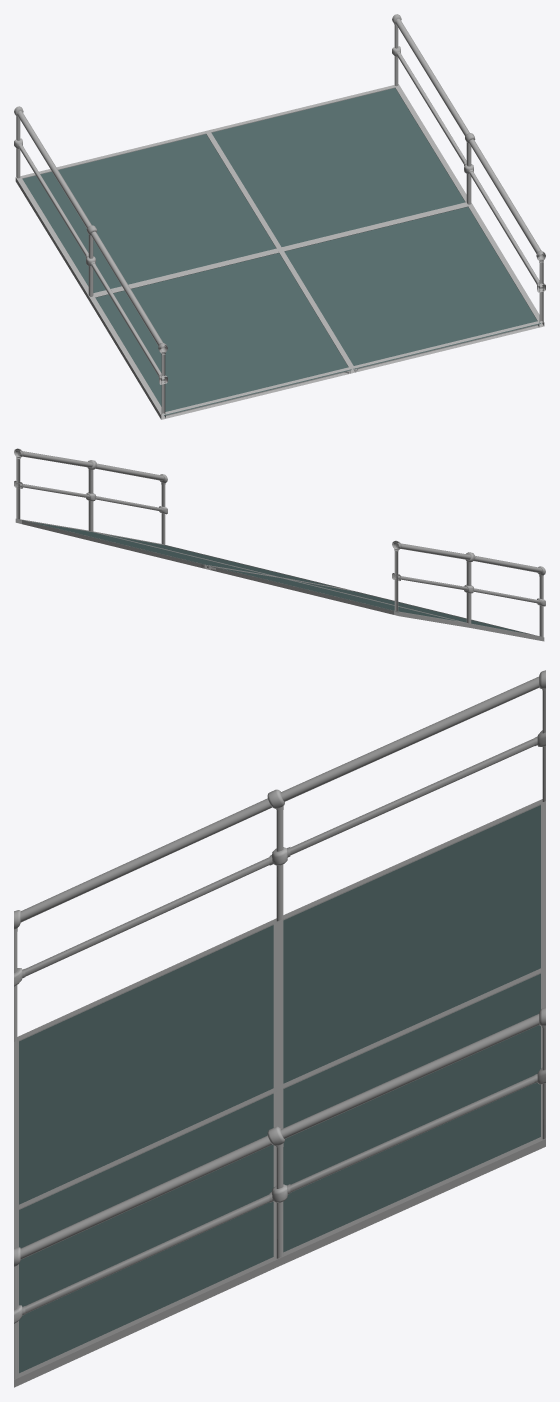
Rendered from L_RailWalk_Ramp.fbx.
The picture shows the model from 3 angles, top to bottom: view 1: azimuth 30°, elevation 25°; view 2: azimuth 150°, elevation 25°; view 3: azimuth 270°, elevation 25°; orthographic projection. The views are drawn at different scales.
Visible parts, largest first — view 1: Large_RampsCombined_RailWalk_Ramp_lineplank14, Large_RampsCombined_RailWalk_Ramp_midrailing02, Large_RampsCombined_RailWalk_Ramp_midrailing06; view 2: Large_RampsCombined_RailWalk_Ramp_lineplank14, Large_RampsCombined_RailWalk_Ramp_midrailing02, Large_RampsCombined_RailWalk_Ramp_midrailing06; view 3: Large_RampsCombined_RailWalk_Ramp_lineplank14, Large_RampsCombined_RailWalk_Ramp_midrailing06, Large_RampsCombined_RailWalk_Ramp_midrailing02.
Part boxes in pixels (x1,y1,x2,y2): Large_RampsCombined_RailWalk_Ramp_lineplank14: [15, 84, 544, 419]; Large_RampsCombined_RailWalk_Ramp_midrailing02: [14, 106, 167, 414]; Large_RampsCombined_RailWalk_Ramp_midrailing06: [392, 14, 545, 322]; Large_RampsCombined_RailWalk_Ramp_lineplank14: [15, 518, 544, 641]; Large_RampsCombined_RailWalk_Ramp_midrailing02: [392, 540, 545, 636]; Large_RampsCombined_RailWalk_Ramp_midrailing06: [14, 448, 167, 544]; Large_RampsCombined_RailWalk_Ramp_lineplank14: [14, 799, 545, 1387]; Large_RampsCombined_RailWalk_Ramp_midrailing06: [14, 1007, 545, 1379]; Large_RampsCombined_RailWalk_Ramp_midrailing02: [14, 670, 545, 1041].
Size of the model in its own units: 4.61 by 2.35 by 3.
